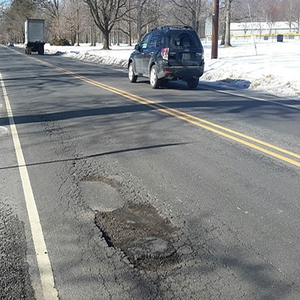pothole: (79, 175, 181, 269)
